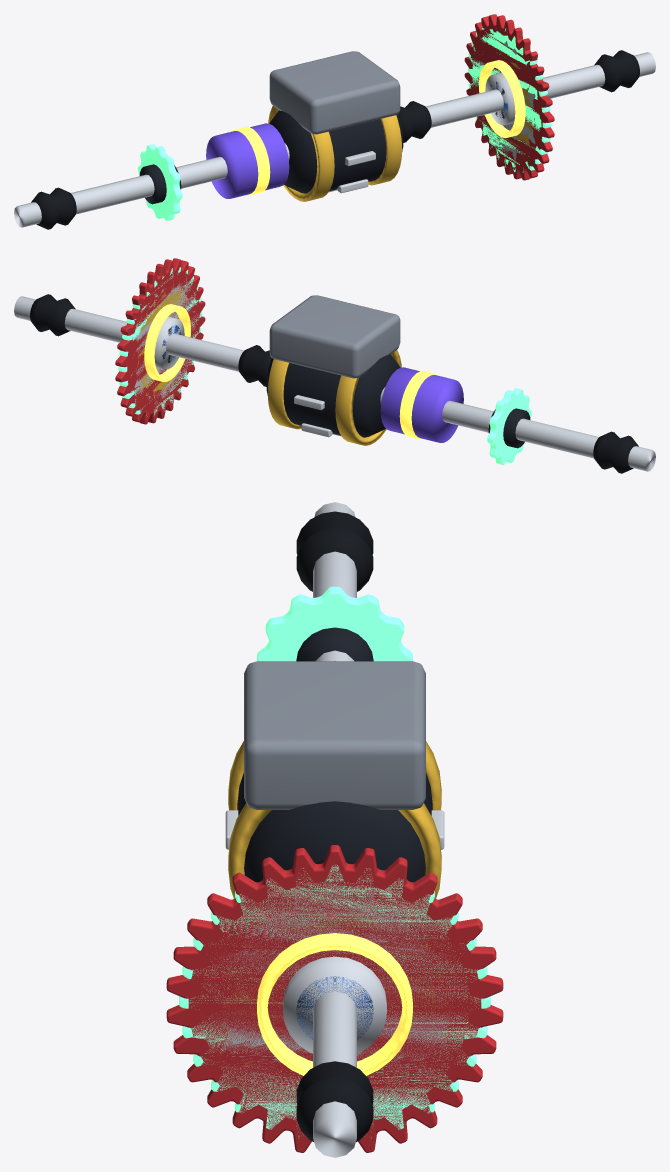
The model's file is parts_gearbox.glb.
3 renders of one model, top to bottom at view 1: azimuth 30°, elevation 25°; view 2: azimuth 150°, elevation 25°; view 3: azimuth 270°, elevation 25°, orthographic. The views are drawn at different scales.
Visible parts, largest first — view 1: CrawlBlock, ShortSprocket, ShortHousing, OverDrum, ShortShaft_-1, ShortShaft_1, CrawlBig, CrawlSmall, LockRing_-1, OverRing, ShortBoot_1_1, ShortBoot_-1_1 (+7 smaller); view 2: CrawlBlock, ShortSprocket, ShortHousing, OverDrum, ShortShaft_-1, ShortShaft_1, CrawlSmall, LockRing_-1, OverRing, CrawlBig, ShortBoot_1_1, ShortBoot_-1_1 (+7 smaller); view 3: ShortSprocket, CrawlBlock, CrawlBig, ShortHousing, OverSprocket, CrawlSmall, OverRing, ShortHub, ShortShaft_1, ShortBoot_1_1, ShortBoot_-1_1, LockRing_1 (+4 smaller).
Part boxes in pixels (bbox=[...]): CrawlBlock: bbox=[269, 51, 400, 134]; ShortSprocket: bbox=[464, 14, 554, 180]; ShortHousing: bbox=[269, 110, 403, 193]; OverDrum: bbox=[206, 123, 289, 198]; ShortShaft_-1: bbox=[14, 143, 289, 227]; ShortShaft_1: bbox=[425, 52, 655, 127]; CrawlBig: bbox=[467, 26, 551, 172]; CrawlSmall: bbox=[138, 144, 182, 220]; LockRing_-1: bbox=[268, 106, 334, 201]; OverRing: bbox=[479, 60, 525, 138]; ShortBoot_1_1: bbox=[594, 50, 639, 92]; ShortBoot_-1_1: bbox=[31, 187, 76, 229]; CrawlBlock: bbox=[269, 295, 400, 378]; ShortSprocket: bbox=[115, 258, 205, 424]; ShortHousing: bbox=[266, 354, 400, 437]; OverDrum: bbox=[380, 367, 463, 442]; ShortShaft_-1: bbox=[380, 387, 655, 471]; ShortShaft_1: bbox=[14, 296, 244, 371]; CrawlSmall: bbox=[487, 388, 531, 464]; LockRing_-1: bbox=[335, 350, 401, 445]; OverRing: bbox=[144, 304, 190, 382]; CrawlBig: bbox=[118, 267, 202, 416]; ShortBoot_1_1: bbox=[30, 294, 75, 336]; ShortBoot_-1_1: bbox=[593, 431, 638, 473]; ShortSprocket: bbox=[166, 845, 503, 1152]; CrawlBlock: bbox=[244, 661, 425, 809]; CrawlBig: bbox=[179, 864, 490, 1138]; ShortHousing: bbox=[237, 773, 432, 882]; OverSprocket: bbox=[209, 889, 461, 1113]; CrawlSmall: bbox=[257, 586, 412, 661]; OverRing: bbox=[257, 933, 412, 1075]; ShortHub: bbox=[283, 956, 386, 1053]; ShortShaft_1: bbox=[313, 991, 356, 1157]; ShortBoot_1_1: bbox=[296, 1061, 373, 1141]; ShortBoot_-1_1: bbox=[296, 511, 373, 591]; LockRing_1: bbox=[228, 803, 441, 898].
Bounding box in the file's own units: 1.12 × 0.2599 × 0.2588.
